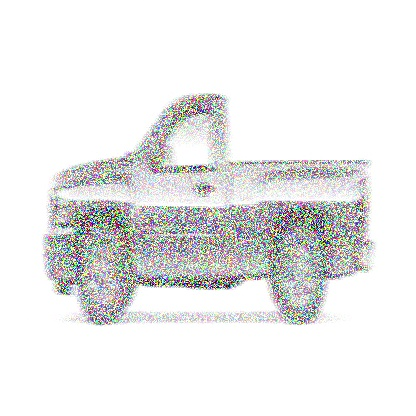Vehicle: (44, 92, 374, 328)
